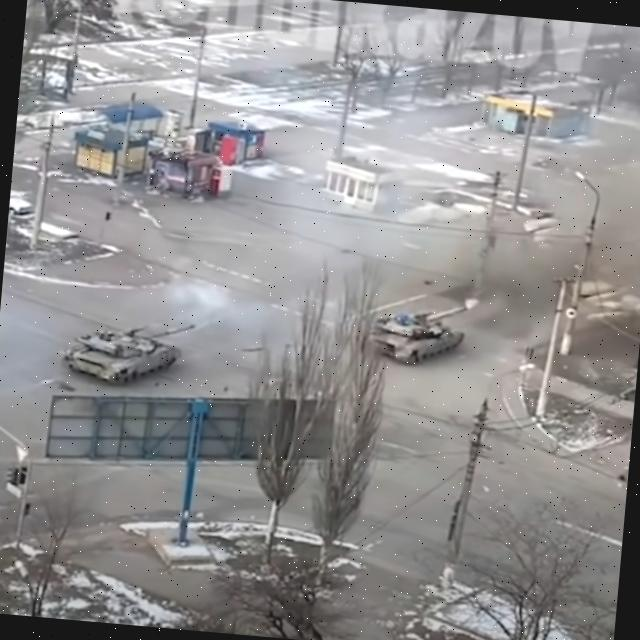MBT: (58, 311, 199, 395), (352, 294, 474, 371)
Vehicle: (9, 190, 34, 220)
